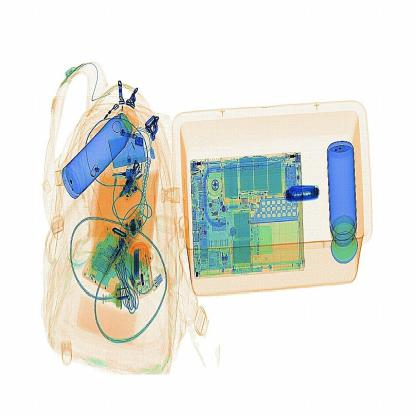scissors: (283, 184, 324, 208)
